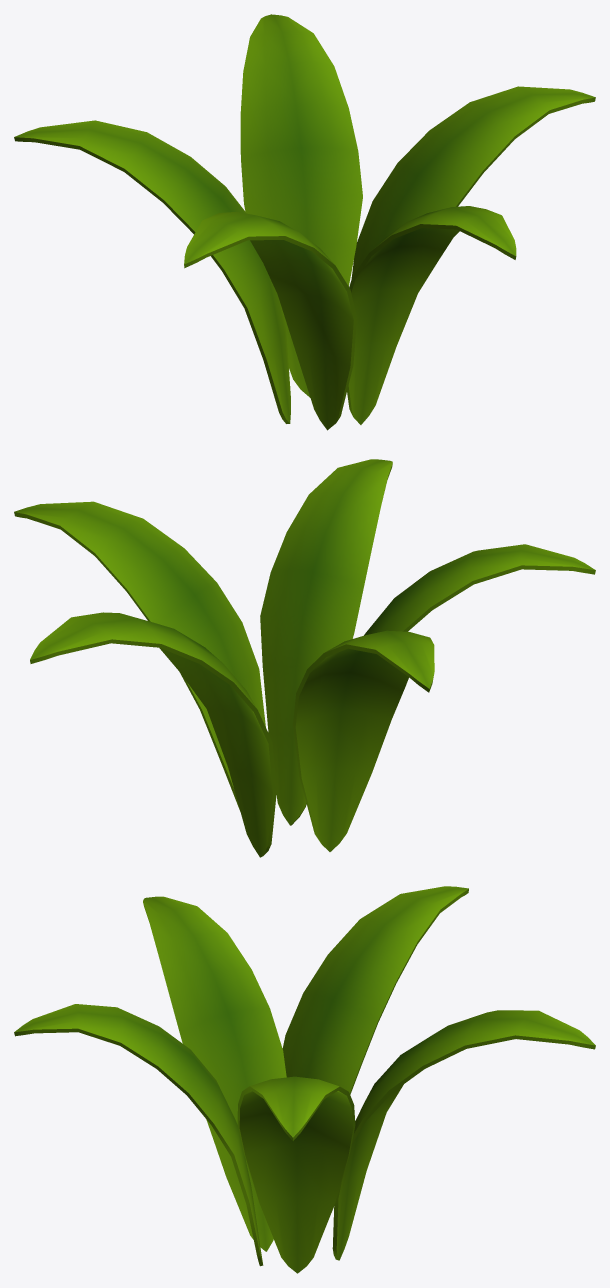
The model's file is SmallGrass_02.fbx.
3 renders of one model, top to bottom at view 1: azimuth 30°, elevation 25°; view 2: azimuth 150°, elevation 25°; view 3: azimuth 270°, elevation 25°, orthographic. The views are drawn at different scales.
Visible parts, largest first — view 1: SmallGrass_02; view 2: SmallGrass_02; view 3: SmallGrass_02.
Boxes of the visible parts, x1,y1,x2,y2 form: SmallGrass_02: (14, 14, 595, 430); SmallGrass_02: (14, 459, 595, 857); SmallGrass_02: (14, 886, 595, 1273).
Size of the model in its own units: 1.43 by 0.7848 by 1.49.
